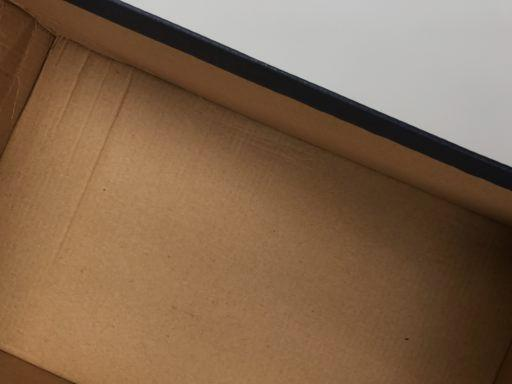cardboard: (0, 4, 512, 382)
